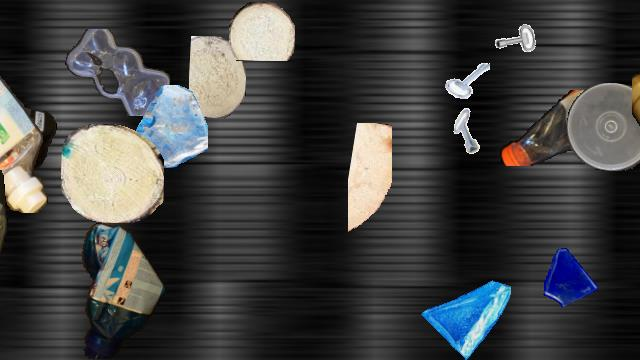glass: (420, 269, 510, 359), (125, 85, 207, 167), (538, 245, 600, 307)
metal: (483, 2, 539, 58), (446, 108, 492, 154), (445, 59, 489, 103)
plastic: (76, 221, 164, 359), (498, 90, 640, 166), (65, 29, 171, 115), (0, 40, 50, 212), (0, 111, 57, 247), (567, 83, 640, 171), (632, 66, 640, 276), (0, 170, 8, 292)
wood: (61, 124, 163, 222), (348, 123, 392, 239), (189, 36, 245, 118), (229, 2, 295, 60)
